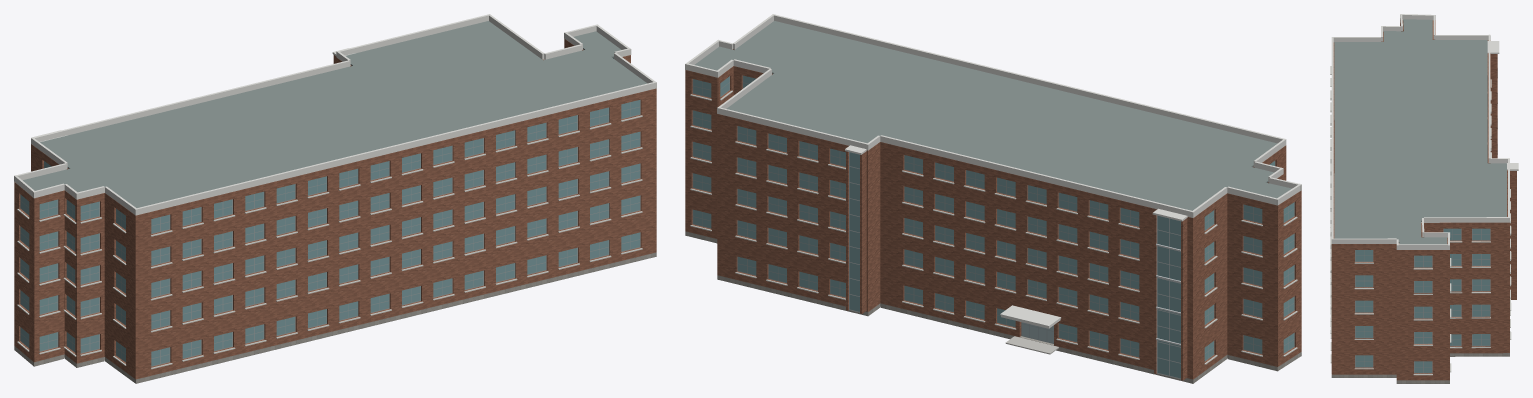
The picture shows the model from 3 angles, left to right: view 1: azimuth 30°, elevation 25°; view 2: azimuth 150°, elevation 25°; view 3: azimuth 270°, elevation 25°; orthographic projection. The views are drawn at different scales.
Parts seen in each view (by area): view 1: eng1__wall, eng1__roof, eng1__glass, eng1__cap, eng1__frame, eng1__band, eng1__plinth, eng1__foundation; view 2: eng1__wall, eng1__roof, eng1__glass, eng1__cap, eng1__frame, eng1__curtainglass, eng1__band, eng1__plinth, eng1__mullion, eng1__foundation; view 3: eng1__roof, eng1__wall, eng1__glass, eng1__cap, eng1__band, eng1__frame, eng1__plinth, eng1__foundation.
Part boxes in pixels (x1,y1,x2,y2): eng1__wall: (14, 39, 656, 379); eng1__roof: (22, 21, 647, 207); eng1__glass: (20, 57, 639, 365); eng1__cap: (14, 14, 656, 215); eng1__frame: (20, 99, 640, 366); eng1__band: (17, 115, 642, 369); eng1__plinth: (14, 252, 656, 382); eng1__foundation: (14, 252, 656, 383); eng1__wall: (685, 49, 1301, 380); eng1__roof: (695, 21, 1291, 210); eng1__glass: (693, 75, 1294, 360); eng1__cap: (685, 14, 1301, 326); eng1__frame: (692, 75, 1294, 361); eng1__curtainglass: (849, 152, 1180, 378); eng1__band: (690, 90, 1297, 364); eng1__plinth: (685, 231, 1300, 382); eng1__mullion: (849, 152, 1180, 379); eng1__foundation: (685, 234, 1301, 383); eng1__roof: (1334, 19, 1506, 244); eng1__wall: (1331, 20, 1516, 380); eng1__glass: (1355, 228, 1489, 372); eng1__cap: (1331, 14, 1518, 249); eng1__band: (1330, 66, 1511, 375); eng1__frame: (1355, 228, 1490, 373); eng1__plinth: (1331, 173, 1509, 382); eng1__foundation: (1331, 356, 1509, 383).
Bounding box in the file's own units: 68.55 × 19.13 × 23.52.
Materials: 14 (4 with a texture image).
